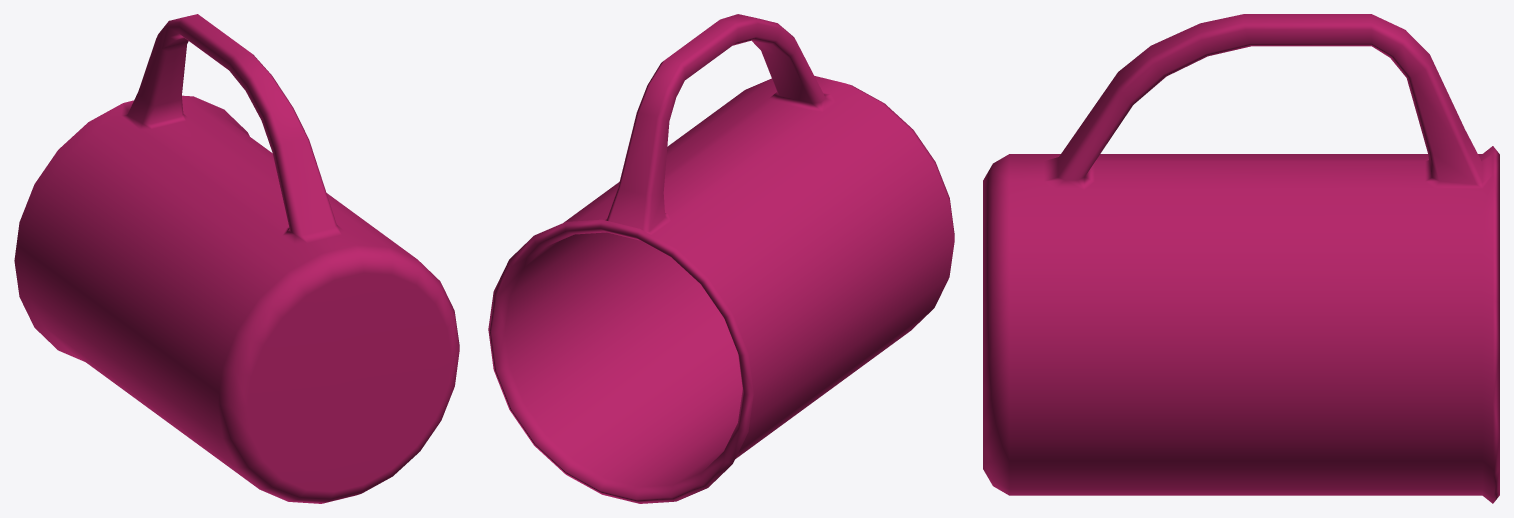
The model's file is SM_Dishes_16.fbx.
3 renders of one model, left to right at view 1: azimuth 30°, elevation 25°; view 2: azimuth 150°, elevation 25°; view 3: azimuth 270°, elevation 25°, orthographic. The views are drawn at different scales.
Parts seen in each view (by area): view 1: SM_Dishes_16; view 2: SM_Dishes_16; view 3: SM_Dishes_16.
Part boxes in pixels (x1,y1,x2,y2): SM_Dishes_16: (14,14,459,503); SM_Dishes_16: (488,14,954,503); SM_Dishes_16: (983,14,1499,503).
Bounding box in the file's own units: 11.86 × 17.08 × 17.12.
